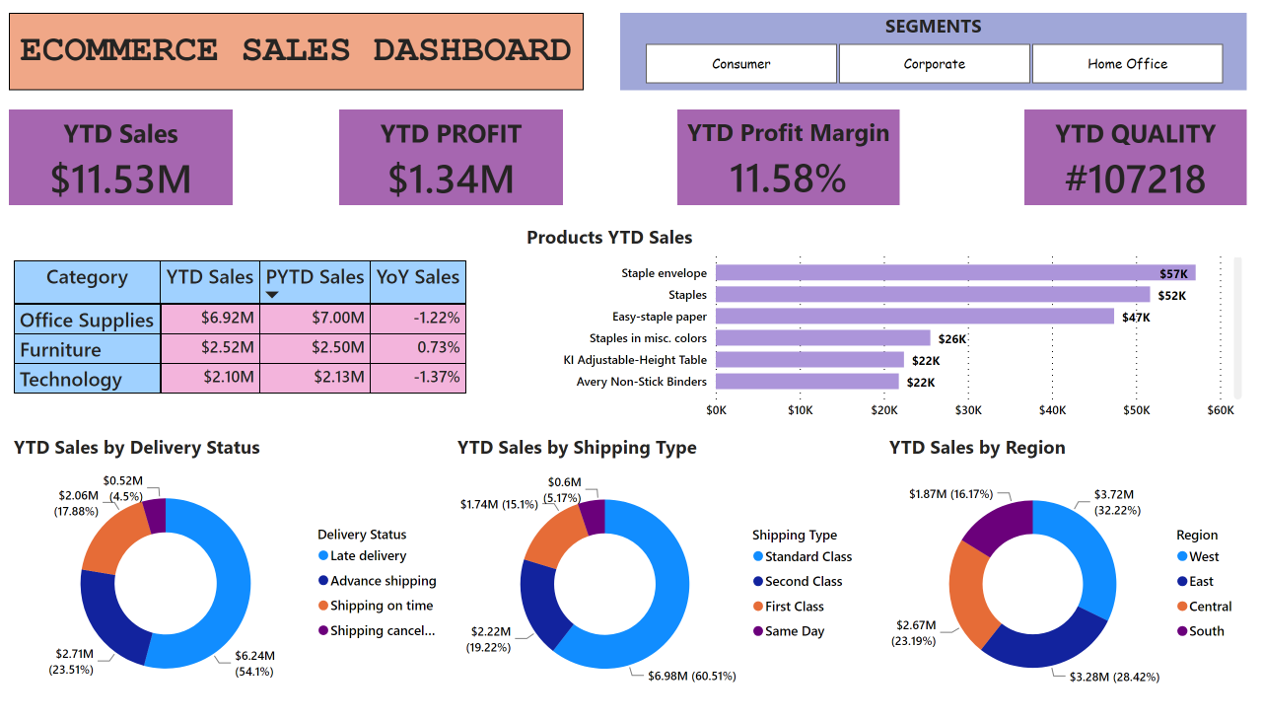

The page's visual inventory and layout, read from the dashboard file:
{"tool":"powerbi","page":{"name":"Page 1","canvas":[1280,720],"ordinal":0},"visuals":[{"type":"textbox","box":[8.6,12.9,582.9,78.6],"z":0},{"type":"slicer","title":"SEGMENTS","fields":{"Values":["ecommerce_data.customer_segment"]},"box":[628.6,12.9,635.7,78.6],"z":1000},{"type":"card","title":"YTD Sales","fields":{"Values":["ecommerce_data.YTD Sales"]},"box":[8.6,111.4,227.1,97.1],"z":2000},{"type":"card","title":"YTD Profit Margin","fields":{"Values":["ecommerce_data.YTD Profit Margin"]},"box":[687.1,111.4,225.7,97.1],"z":3000},{"type":"card","title":"YTD PROFIT","fields":{"Values":["ecommerce_data.YTD Profit"]},"box":[344.3,111.4,227.1,97.1],"z":4000},{"type":"card","title":"YTD QUALITY","fields":{"Values":["ecommerce_data.YTD Conc QTY"]},"box":[1038.6,111.4,225.7,97.1],"z":5000},{"type":"pivotTable","fields":{"Rows":["ecommerce_data.category_name"],"Values":["ecommerce_data.YTD Sales","ecommerce_data.PYTD Sales","ecommerce_data.YTD Sales YoY%"]},"box":[8.6,258.6,492.9,160],"z":6000},{"type":"barChart","title":"Products YTD Sales","fields":{"Category":["ecommerce_data.product_name"],"Y":["ecommerce_data.YTD Sales"]},"box":[528.6,227.1,735.7,207.1],"z":7000},{"type":"donutChart","title":"YTD Sales by Region","fields":{"Y":["ecommerce_data.YTD Sales"],"Category":["ecommerce_data.customer_region"]},"box":[897.1,440,367.1,280],"z":8000},{"type":"donutChart","fields":{"Y":["ecommerce_data.YTD Sales"],"Category":["ecommerce_data.shipping_type"]},"box":[458.6,440,420,280],"z":9000},{"type":"donutChart","fields":{"Y":["ecommerce_data.YTD Sales"],"Category":["ecommerce_data.delivery_status"]},"box":[8.6,440,450,278.6],"z":10000}]}

Visuals, with their boxes in screenshot pixels (x1, y1, x2, y2), scaled from the page's 1280x720 canvas onto the 1262x720 screenshot:
textbox: crop(8, 13, 583, 92)
"SEGMENTS" slicer: crop(620, 13, 1247, 92)
"YTD Sales" card: crop(8, 111, 232, 208)
"YTD Profit Margin" card: crop(677, 111, 900, 208)
"YTD PROFIT" card: crop(339, 111, 563, 208)
"YTD QUALITY" card: crop(1024, 111, 1247, 208)
pivotTable - ecommerce_data.category_name x ecommerce_data.YTD Sales: crop(8, 259, 494, 419)
"Products YTD Sales" barChart: crop(521, 227, 1247, 434)
"YTD Sales by Region" donutChart: crop(884, 440, 1246, 719)
donutChart - ecommerce_data.YTD Sales x ecommerce_data.shipping_type: crop(452, 440, 866, 719)
donutChart - ecommerce_data.YTD Sales x ecommerce_data.delivery_status: crop(8, 440, 452, 719)
